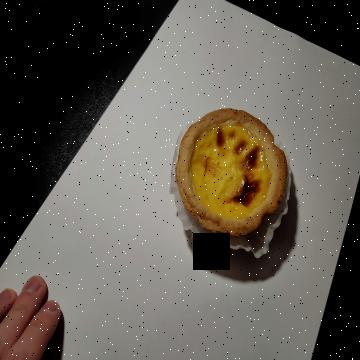EggTart: (173, 108, 288, 236)
